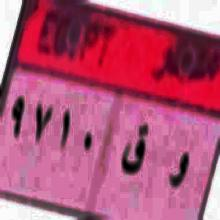0: (80, 122, 94, 160)
1: (57, 104, 73, 164)
7: (34, 98, 52, 150)
9: (8, 93, 27, 142)
qaaf: (124, 110, 150, 184)
waw: (168, 142, 188, 200)
